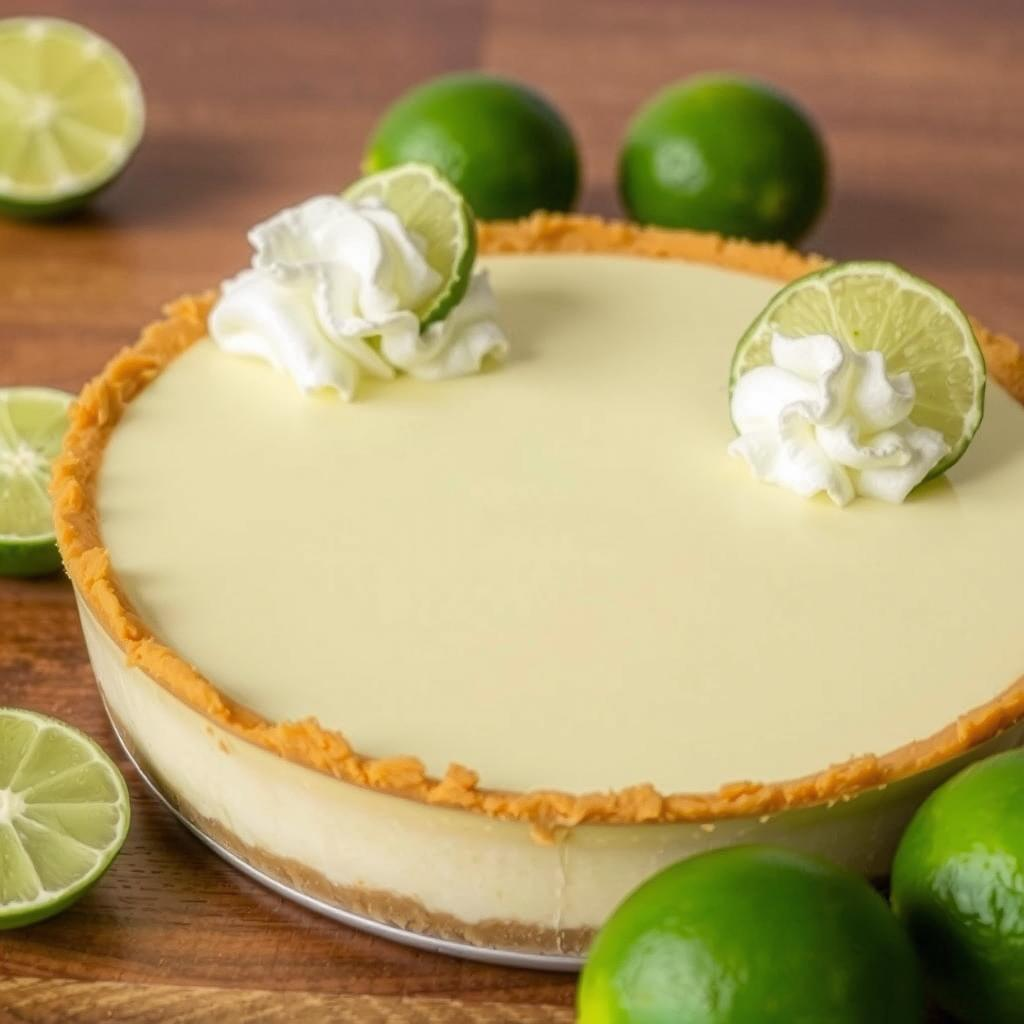pie: (51, 166, 1024, 967)
